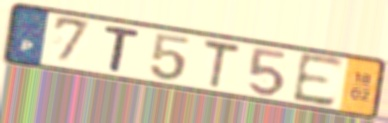5: (244, 45, 292, 98), (147, 31, 193, 82)
7: (50, 14, 95, 68)
E: (290, 50, 347, 110)
T: (200, 37, 243, 92), (102, 23, 143, 75)
